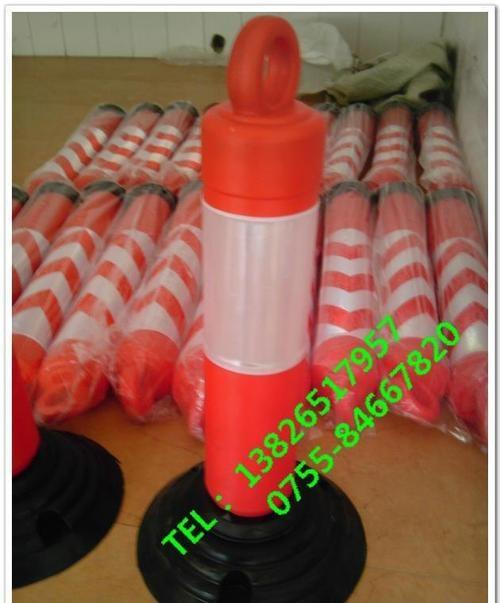cone_barrel: (182, 40, 330, 545)
